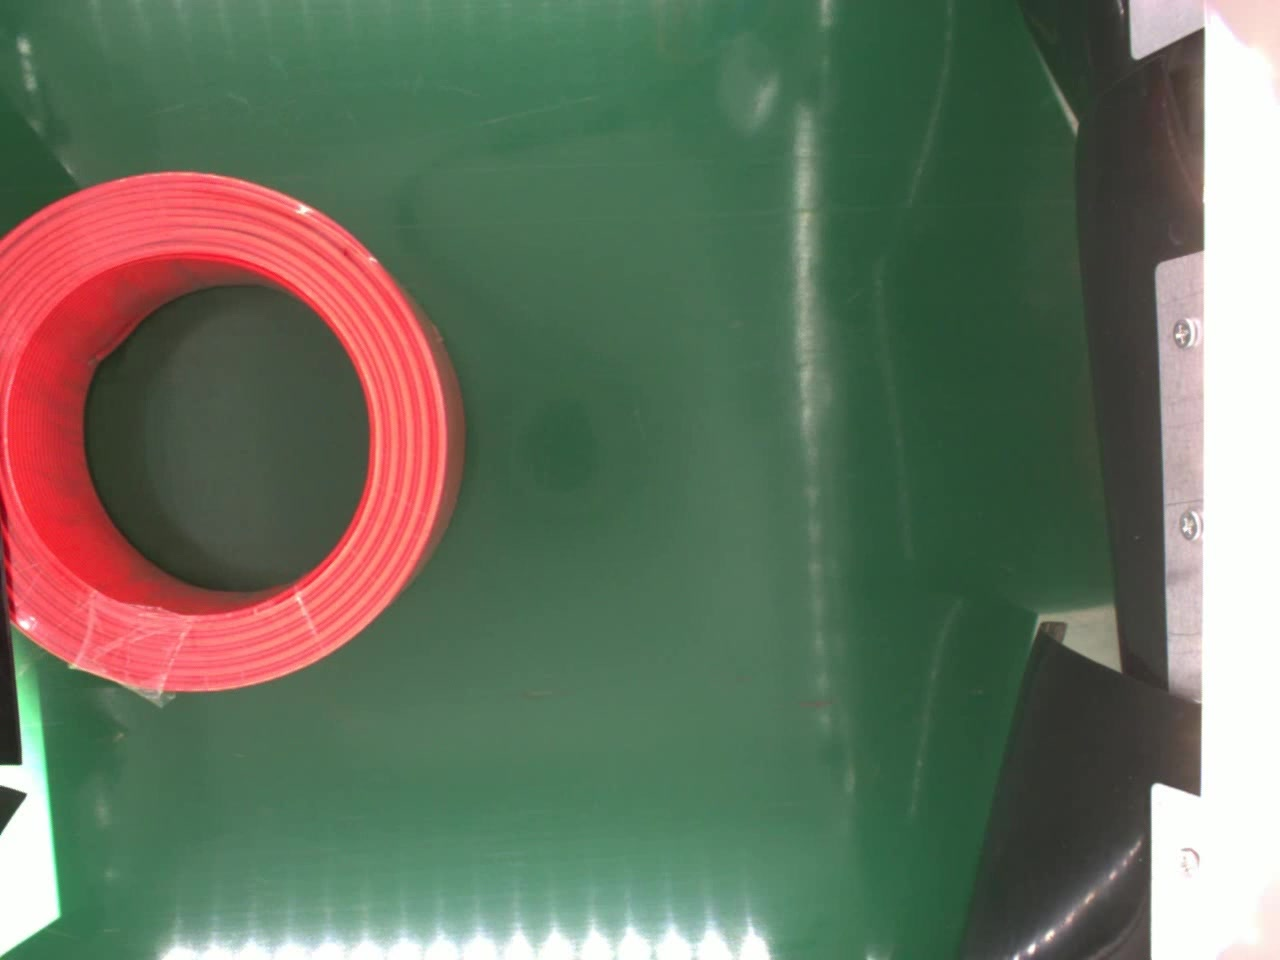red: (0, 167, 463, 704)
